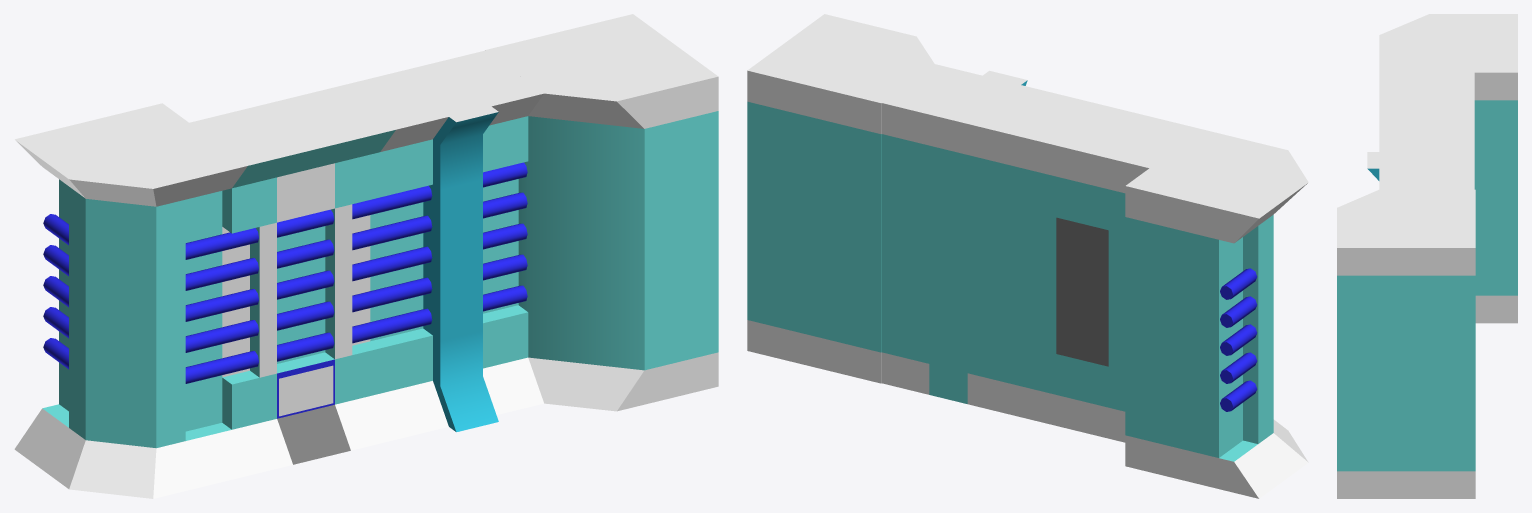
The model's file is Walls.fbx.
The picture shows the model from 3 angles, left to right: view 1: azimuth 30°, elevation 25°; view 2: azimuth 150°, elevation 25°; view 3: azimuth 270°, elevation 25°; orthographic projection. The views are drawn at different scales.
Parts seen in each view (by area): view 1: ClosedTurn, OpenTurn, Base, Column; view 2: OpenTurn, ClosedTurn, Column, Base; view 3: ClosedTurn, OpenTurn, Column, Base.
Boxes of the visible parts, bbox=[...] form: ClosedTurn: bbox=[485, 14, 718, 411]; OpenTurn: bbox=[14, 103, 247, 498]; Base: bbox=[189, 86, 395, 475]; Column: bbox=[338, 50, 543, 439]; OpenTurn: bbox=[1125, 129, 1308, 498]; ClosedTurn: bbox=[747, 14, 934, 383]; Column: bbox=[881, 64, 1068, 415]; Base: bbox=[1015, 97, 1202, 442]; ClosedTurn: bbox=[1337, 189, 1475, 498]; OpenTurn: bbox=[1379, 14, 1517, 323]; Column: bbox=[1367, 131, 1474, 189]; Base: bbox=[1379, 72, 1474, 130].
Bounding box in the file's own units: 315 × 157 × 103.
